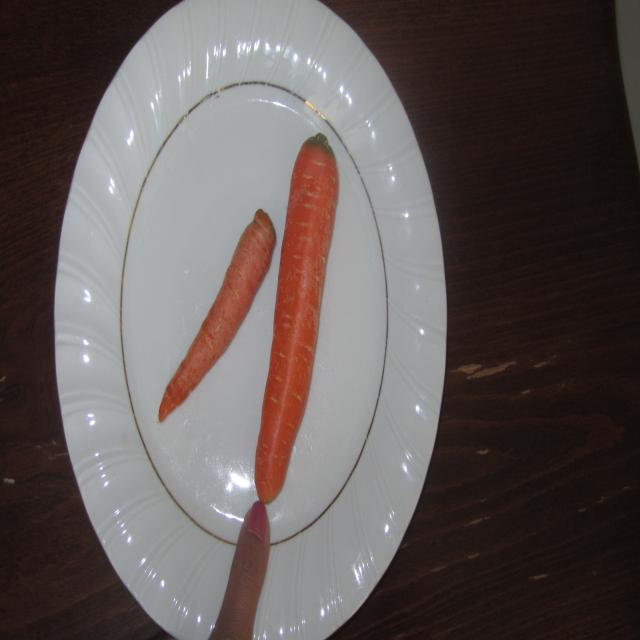carrot: (253, 130, 339, 505), (157, 206, 277, 423)
